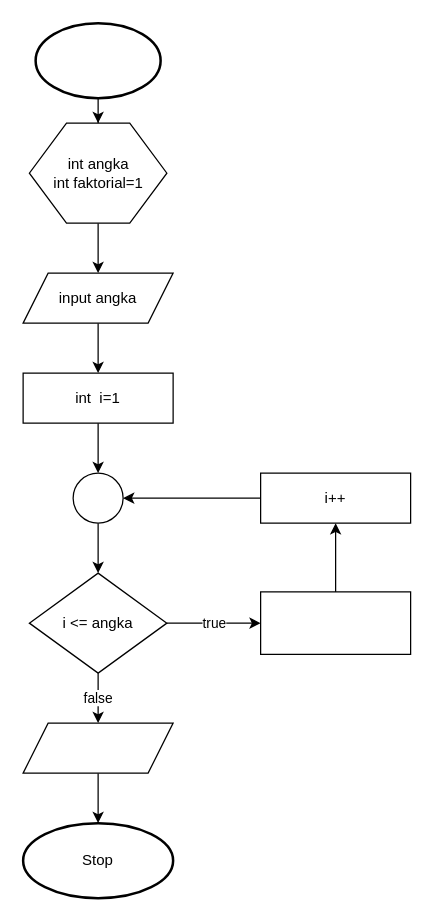
The diagram is 433 pixels wide and 920 high, and some of its shapes have lost their labels. Here are the shapes that lost their labels. From the top down, the box of each, then its label:
(34, 21, 161, 99): Start
(259, 591, 411, 654): faktorial = faktorial * i
(22, 722, 173, 773): print faktorial
